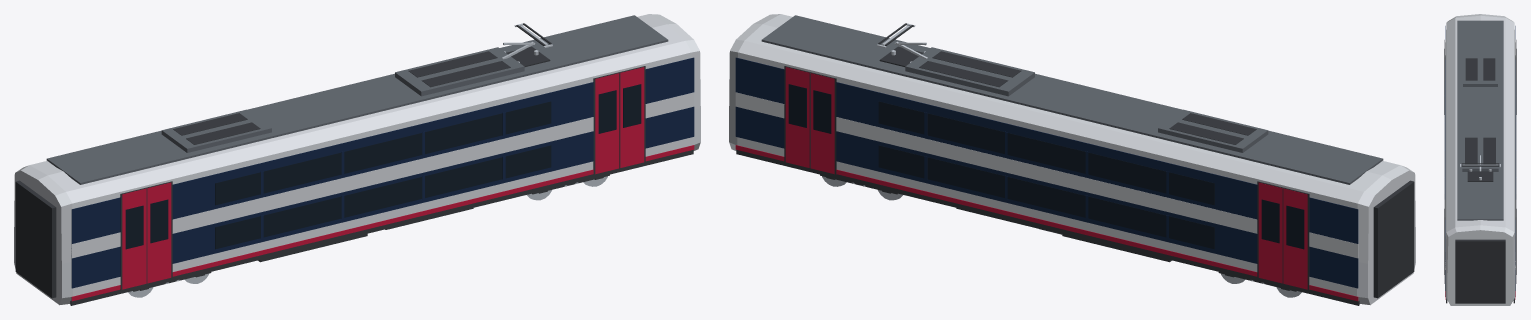
The model's file is rer_c_z2n_car.glb.
3 renders of one model, left to right at view 1: azimuth 30°, elevation 25°; view 2: azimuth 150°, elevation 25°; view 3: azimuth 270°, elevation 25°, orthographic. The views are drawn at different scales.
Visible parts, largest first — view 1: rer_c_z2n_neutral; view 2: rer_c_z2n_neutral; view 3: rer_c_z2n_neutral.
Part boxes in pixels (x1,y1,x2,y2): rer_c_z2n_neutral: [14, 14, 700, 305]; rer_c_z2n_neutral: [729, 14, 1415, 305]; rer_c_z2n_neutral: [1444, 14, 1516, 305].
Bounding box in the file's own units: 21.34 × 4.88 × 2.97.
1 material, 1 textured.
